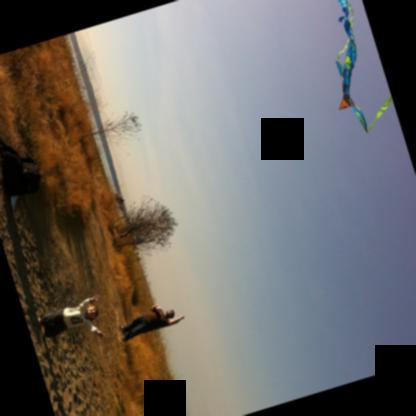backpack: (0, 137, 40, 221)
